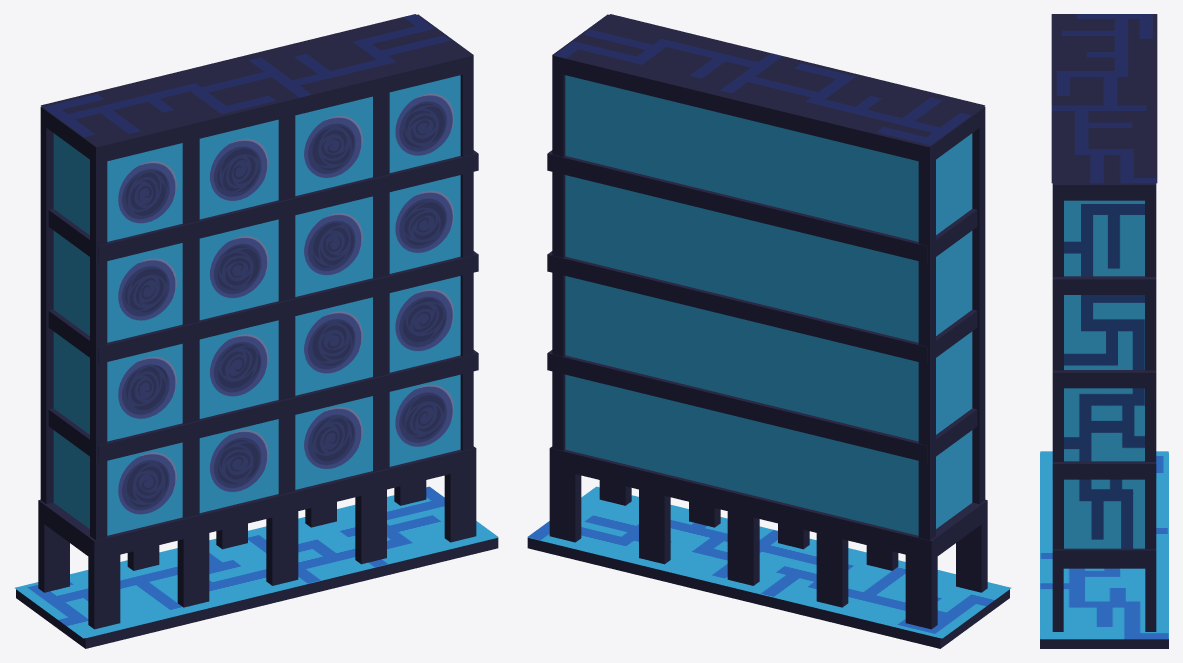
File: 2026-1-8-CarbonCapture-v013.fbx
The picture shows the model from 3 angles, left to right: view 1: azimuth 30°, elevation 25°; view 2: azimuth 150°, elevation 25°; view 3: azimuth 270°, elevation 25°; orthographic projection. The views are drawn at different scales.
Visible parts, largest first — view 1: Plane.003, Cube.014, Cube.011, Cube.003, Plane, Plane.002, Cube.016, Cube.015, Cube.001, Plane.007, Plane.005, Plane.006 (+1 smaller); view 2: Cube.011, Cube.014, Cube.003, Plane, Plane.002, Cube.016, Cube.015, Cube.001, Cube; view 3: Plane.001, Plane, Plane.002, Cube.003, Cube.014, Cube.001, Cube.015, Cube.016, Cube, Cube.011.
Part boxes in pixels (x1,y1,x2,y2): Plane.003: [118, 87, 453, 520]; Cube.014: [38, 446, 476, 629]; Cube.011: [53, 75, 460, 535]; Cube.003: [40, 14, 473, 540]; Plane: [41, 14, 471, 146]; Plane.002: [14, 486, 498, 638]; Cube.016: [48, 350, 478, 462]; Cube.015: [48, 251, 478, 363]; Cube.001: [48, 150, 478, 263]; Plane.007: [182, 139, 199, 518]; Plane.005: [278, 115, 295, 495]; Plane.006: [373, 92, 389, 472]; Cube.011: [565, 75, 972, 535]; Cube.014: [549, 446, 987, 629]; Cube.003: [552, 14, 985, 540]; Plane: [554, 14, 984, 146]; Plane.002: [527, 486, 1011, 638]; Cube.016: [547, 350, 977, 462]; Cube.015: [547, 251, 977, 363]; Cube.001: [547, 150, 977, 263]; Cube: [527, 537, 1009, 648]; Plane.001: [1064, 204, 1144, 548]; Plane: [1051, 14, 1157, 183]; Plane.002: [1040, 451, 1168, 639]; Cube.003: [1053, 183, 1155, 549]; Cube.014: [1052, 480, 1156, 631]; Cube.001: [1052, 183, 1156, 294]; Cube.015: [1052, 295, 1156, 388]; Cube.016: [1052, 388, 1156, 479]; Cube: [1040, 453, 1168, 648]; Cube.011: [1064, 200, 1144, 203].
Size of the model in its own units: 299 by 339 by 86.75.
Materials: 6 (4 with a texture image).
